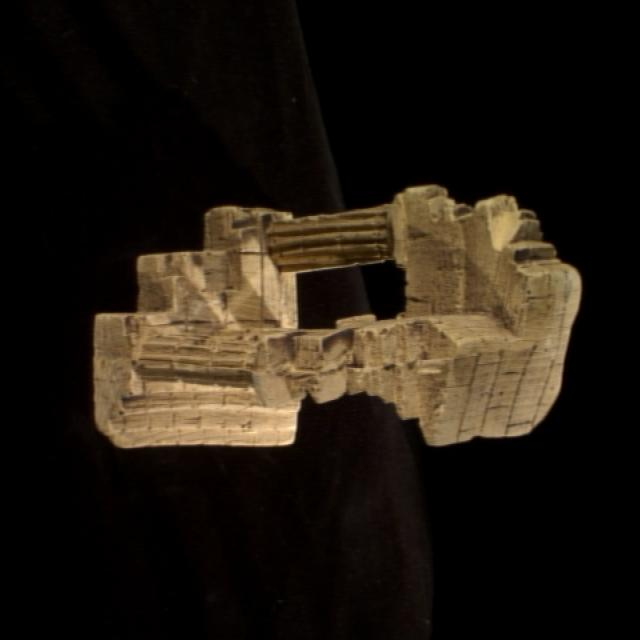Instance-Segmentation: (95, 185, 580, 445)
